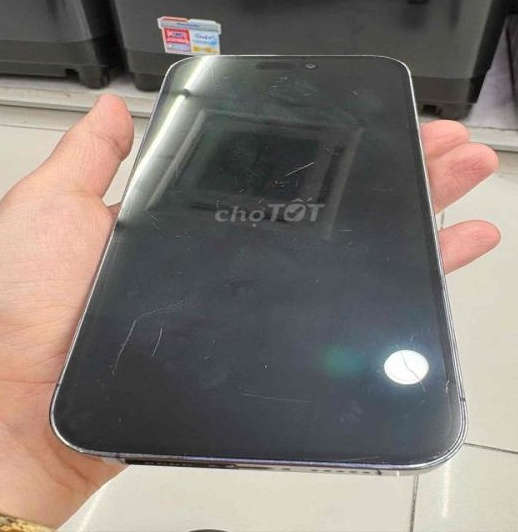scratch: (105, 290, 225, 378), (189, 62, 389, 108), (388, 326, 458, 422), (234, 367, 347, 414), (257, 144, 330, 201), (143, 203, 220, 246), (316, 221, 389, 265), (360, 181, 420, 200)
